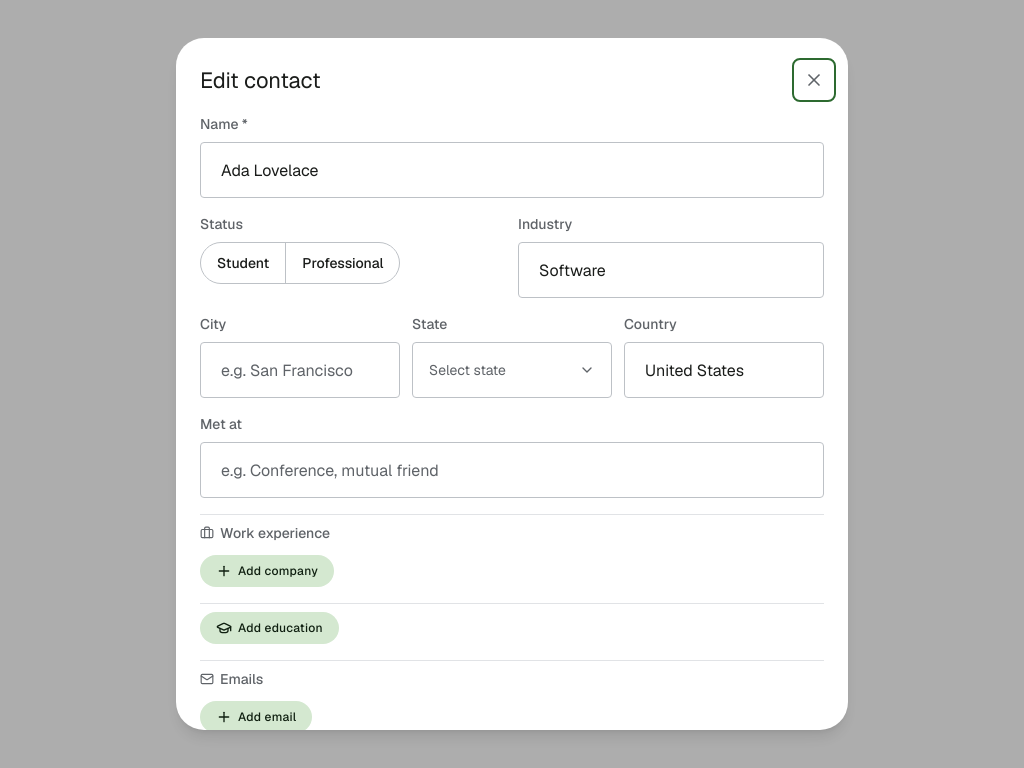
Test: Edit contact education › still offers the disclosure for a contact with no education
Expected: the text "Add school" is not shown
Click the button "Add education" at (269, 628), box [200, 612, 339, 644]
(page scrolled)
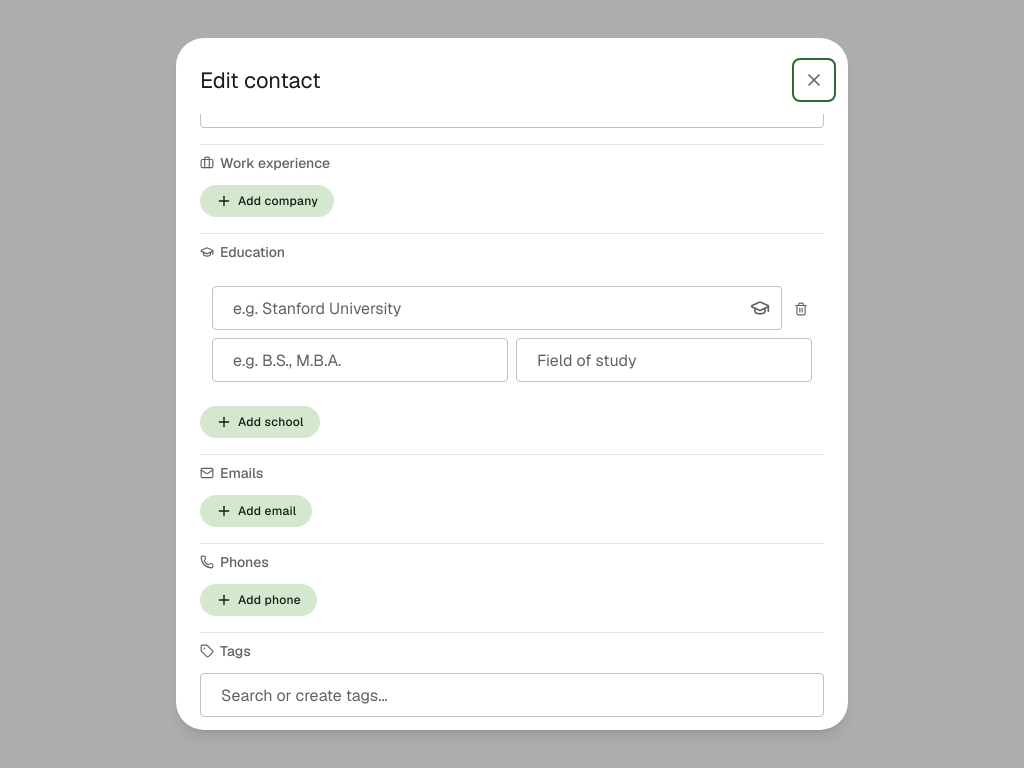
Expected: the number of fields with placeholder "e.g. Stanford University" is 1, [212, 286, 782, 330]
Expected: the button "Add school" is shown, [200, 406, 320, 438]
